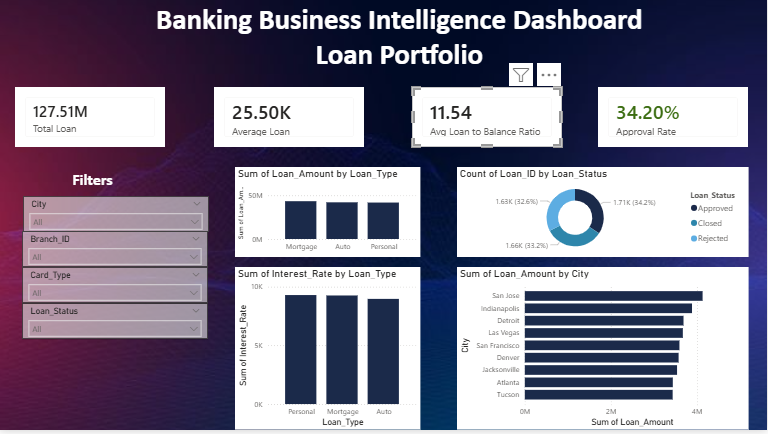

What the dashboard file says about the page in this screenshot:
{"tool":"powerbi","page":{"name":"Loan Portfolio","canvas":[1280,720],"ordinal":3},"visuals":[{"type":"textbox","box":[124.3,0,1084.3,171.4],"z":0},{"type":"cardVisual","fields":{"Data":["Banking_Capstone_Cleaned_Dataset.Total Loan"]},"box":[27.1,148.6,250,100],"z":1000},{"type":"cardVisual","fields":{"Data":["Banking_Capstone_Cleaned_Dataset.Avg Loan to Balance Ratio"]},"box":[688.1,148.6,250,100],"z":2000},{"type":"cardVisual","fields":{"Data":["Banking_Capstone_Cleaned_Dataset.Approval Rate"]},"box":[998.6,148.6,250,100],"z":3000},{"type":"cardVisual","fields":{"Data":["Banking_Capstone_Cleaned_Dataset.Average Loan"]},"box":[357.6,148.6,250,100],"z":4000},{"type":"slicer","fields":{"Values":["Banking_Capstone_Cleaned_Dataset.City"]},"box":[39.2,329.3,310,60],"z":5000},{"type":"slicer","fields":{"Values":["Banking_Capstone_Cleaned_Dataset.Branch_ID"]},"box":[38.9,389.1,310,60],"z":6000},{"type":"slicer","fields":{"Values":["Banking_Capstone_Cleaned_Dataset.Loan_Status"]},"box":[38.7,509.1,310,60.5],"z":7000},{"type":"textbox","box":[38.4,282,234.7,47.5],"z":8000},{"type":"slicer","fields":{"Values":["Banking_Capstone_Cleaned_Dataset.Card_Type"]},"box":[38.4,448.9,310,60.5],"z":9000},{"type":"clusteredColumnChart","fields":{"Category":["Banking_Capstone_Cleaned_Dataset.Loan_Type"],"Y":["Sum(Banking_Capstone_Cleaned_Dataset.Loan_Amount)"]},"box":[392.9,281.4,308.6,150],"z":9001},{"type":"donutChart","fields":{"Category":["Banking_Capstone_Cleaned_Dataset.Loan_Status"],"Y":["CountNonNull(Banking_Capstone_Cleaned_Dataset.Loan_ID)"]},"box":[762.9,281.4,485.7,150],"z":9002},{"type":"clusteredColumnChart","fields":{"Category":["Banking_Capstone_Cleaned_Dataset.Loan_Type"],"Y":["Sum(Banking_Capstone_Cleaned_Dataset.Interest_Rate)"]},"box":[392.9,448.6,308.6,271.4],"z":9003},{"type":"clusteredBarChart","fields":{"Y":["Sum(Banking_Capstone_Cleaned_Dataset.Loan_Amount)"],"Category":["Banking_Capstone_Cleaned_Dataset.City"]},"box":[762.9,448.6,485.7,271.4],"z":9004}]}

Visuals, with their boxes in screenshot pixels (x1, y1, x2, y2), scaled from the page's 1280x720 canvas onto the 768x434 screenshot:
textbox: [x1=75, y1=0, x2=725, y2=103]
cardVisual - Banking_Capstone_Cleaned_Dataset.Total Loan: [x1=16, y1=90, x2=166, y2=150]
cardVisual - Banking_Capstone_Cleaned_Dataset.Avg Loan to Balance Ratio: [x1=413, y1=90, x2=563, y2=150]
cardVisual - Banking_Capstone_Cleaned_Dataset.Approval Rate: [x1=599, y1=90, x2=749, y2=150]
cardVisual - Banking_Capstone_Cleaned_Dataset.Average Loan: [x1=215, y1=90, x2=365, y2=150]
slicer - Banking_Capstone_Cleaned_Dataset.City: [x1=24, y1=198, x2=210, y2=235]
slicer - Banking_Capstone_Cleaned_Dataset.Branch_ID: [x1=23, y1=235, x2=209, y2=271]
slicer - Banking_Capstone_Cleaned_Dataset.Loan_Status: [x1=23, y1=307, x2=209, y2=343]
textbox: [x1=23, y1=170, x2=164, y2=199]
slicer - Banking_Capstone_Cleaned_Dataset.Card_Type: [x1=23, y1=271, x2=209, y2=307]
clusteredColumnChart - Banking_Capstone_Cleaned_Dataset.Loan_Type x Sum(Banking_Capstone_Cleaned_Dataset.Loan_Amount): [x1=236, y1=170, x2=421, y2=260]
donutChart - Banking_Capstone_Cleaned_Dataset.Loan_Status x CountNonNull(Banking_Capstone_Cleaned_Dataset.Loan_ID): [x1=458, y1=170, x2=749, y2=260]
clusteredColumnChart - Banking_Capstone_Cleaned_Dataset.Loan_Type x Sum(Banking_Capstone_Cleaned_Dataset.Interest_Rate): [x1=236, y1=270, x2=421, y2=433]
clusteredBarChart - Sum(Banking_Capstone_Cleaned_Dataset.Loan_Amount) x Banking_Capstone_Cleaned_Dataset.City: [x1=458, y1=270, x2=749, y2=433]
